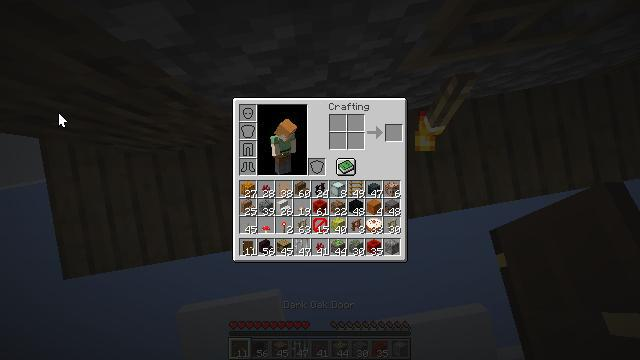cursor: (112, 58, 128, 68)
